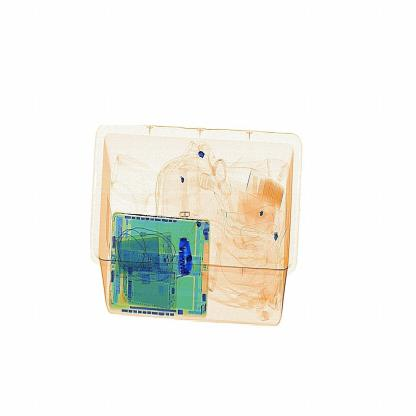scissors: (173, 225, 201, 286)
